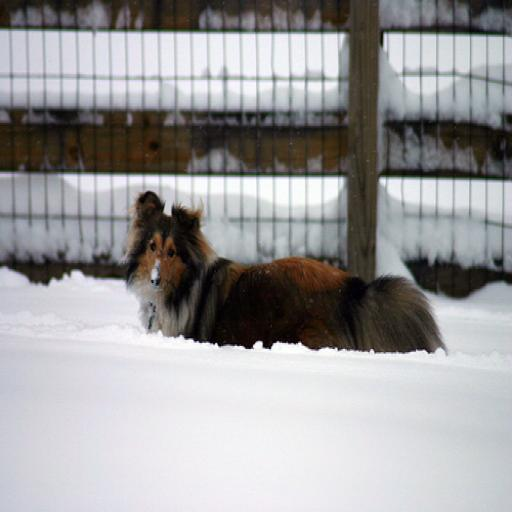dog_face: (118, 187, 199, 303)
